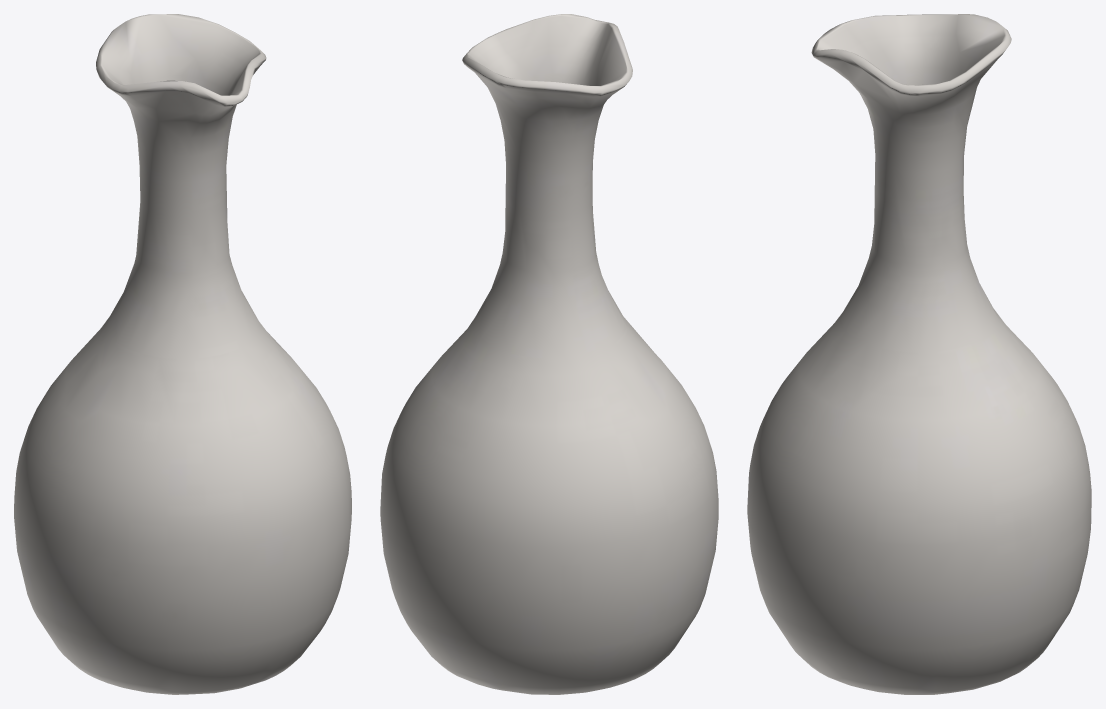
File: ceramic_vase_01.glb
3 renders of one model, left to right at view 1: azimuth 30°, elevation 25°; view 2: azimuth 150°, elevation 25°; view 3: azimuth 270°, elevation 25°, orthographic.
Parts seen in each view (by area): view 1: ceramic_vase_01; view 2: ceramic_vase_01; view 3: ceramic_vase_01.
Part boxes in pixels (left/top/right/bottom): ceramic_vase_01: left=14, top=14, right=351, bottom=694; ceramic_vase_01: left=380, top=14, right=718, bottom=694; ceramic_vase_01: left=747, top=14, right=1091, bottom=694.
Size of the model in its own units: 0.2036 by 0.4003 by 0.2035.
1 material, 1 textured.
